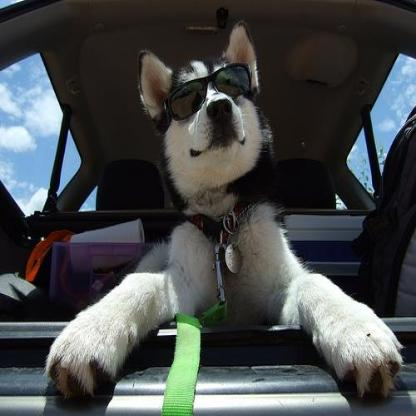Eskimo_dog: (43, 18, 404, 414)
